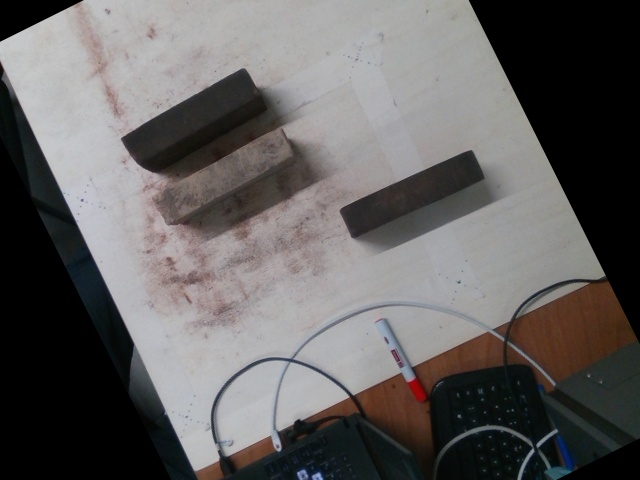brick-side: (153, 127, 291, 225), (122, 69, 257, 160), (342, 148, 483, 234)
